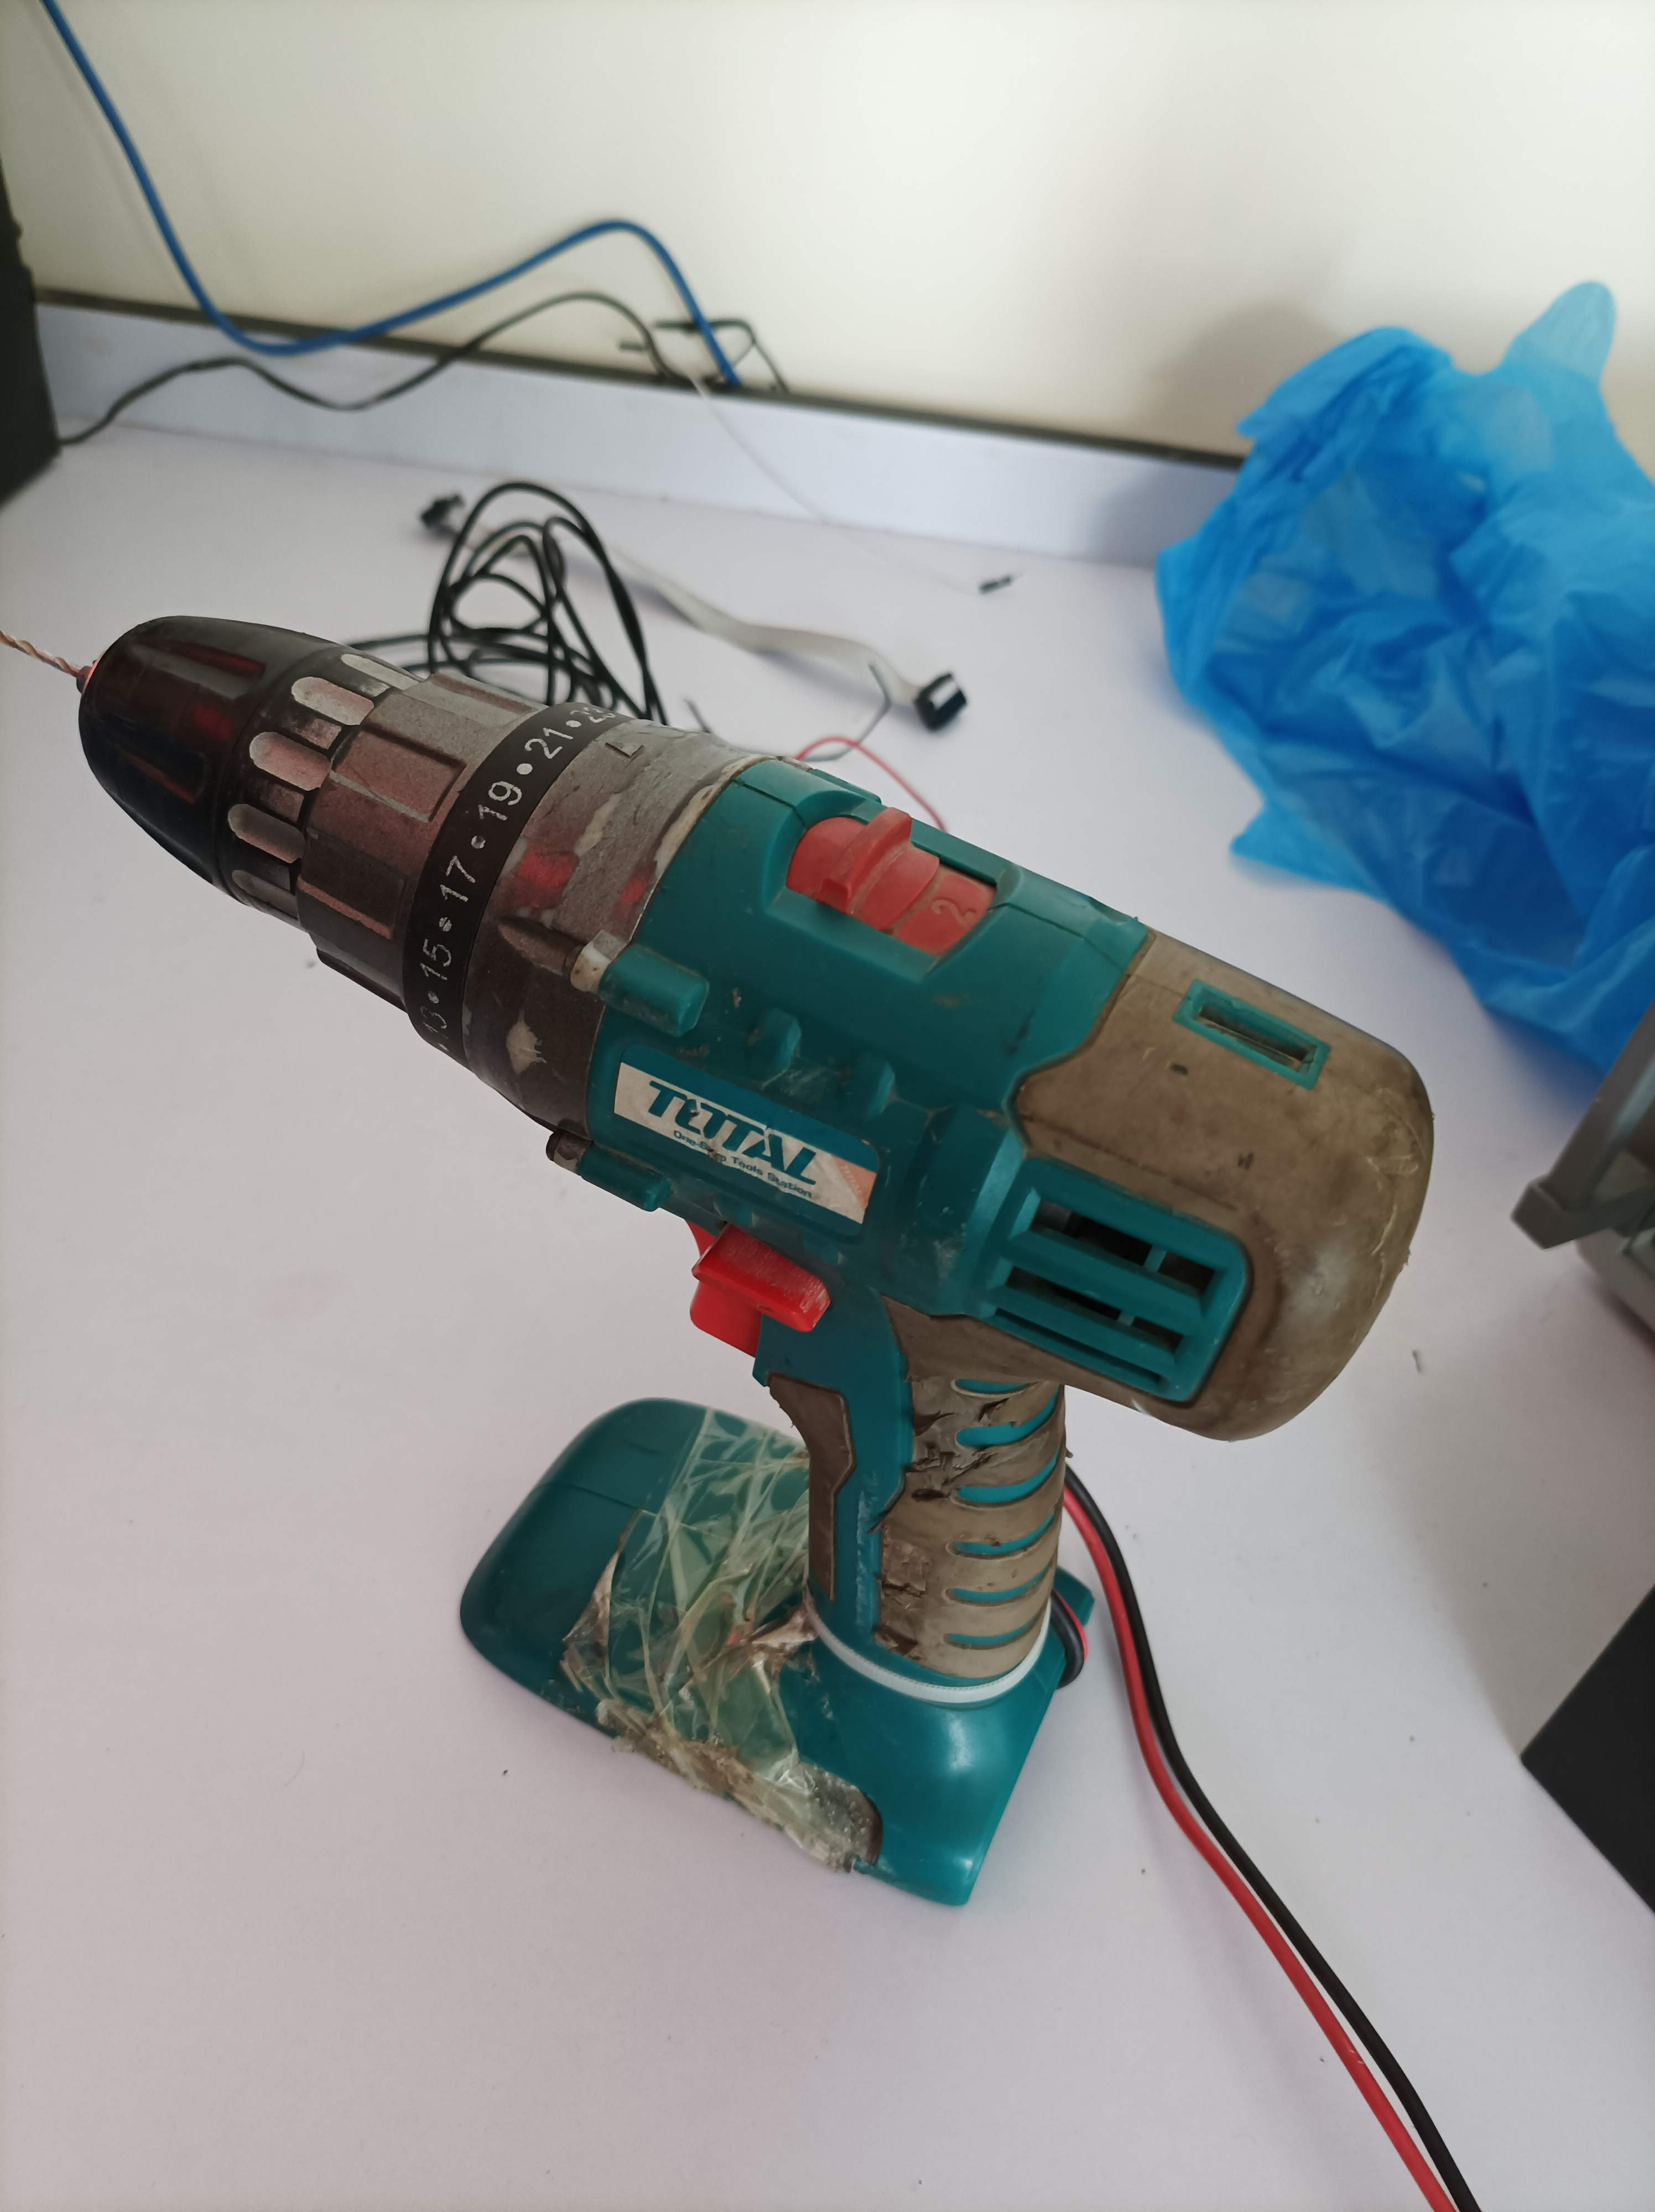driller: (0, 596, 1445, 1915)
